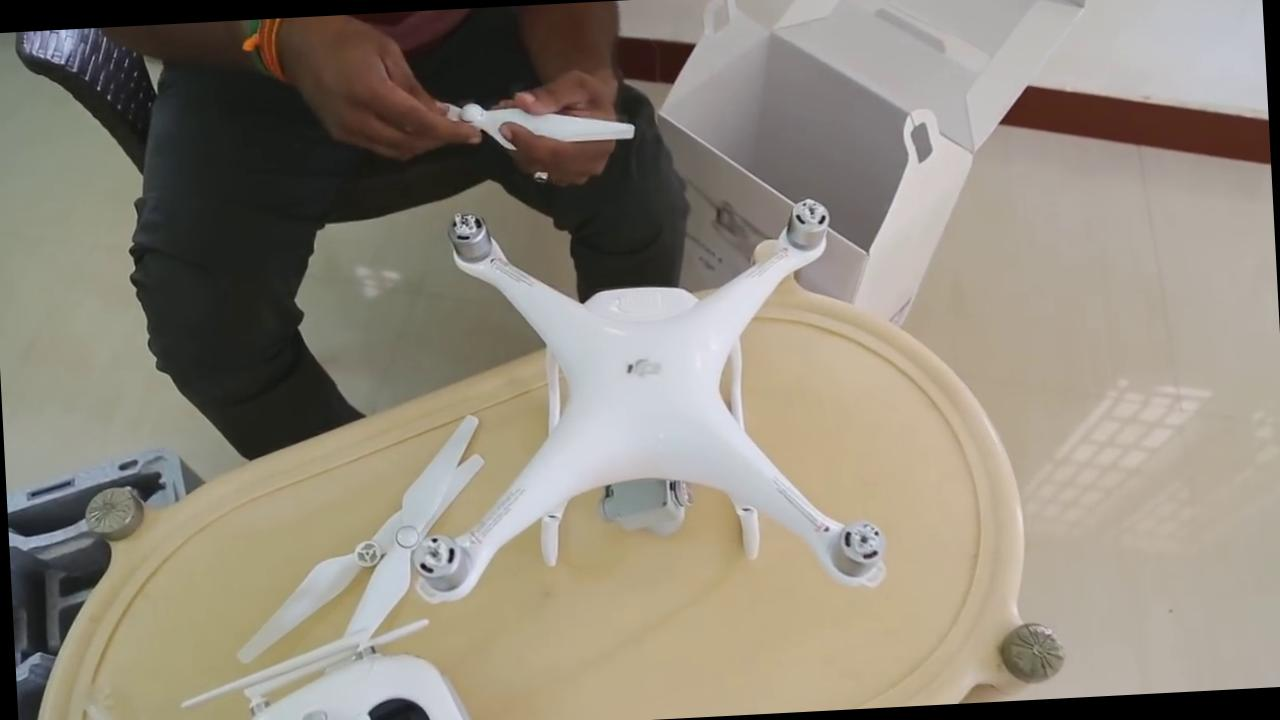drone: (401, 190, 907, 618)
